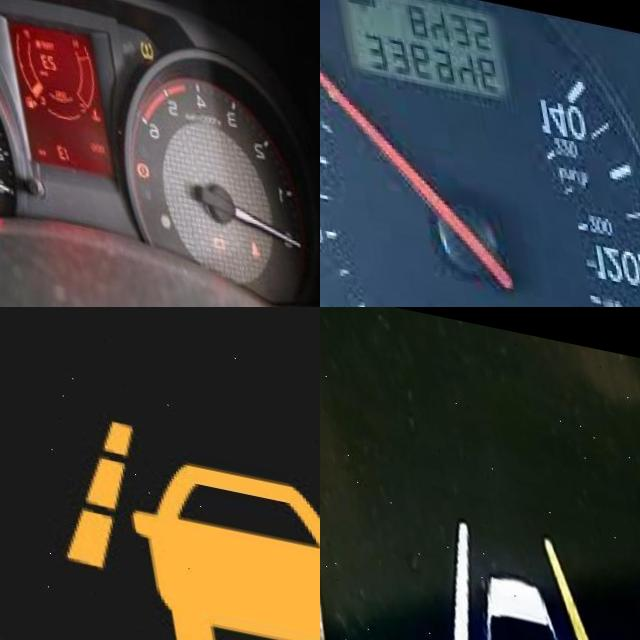Seat Belt: (237, 220, 251, 240)
